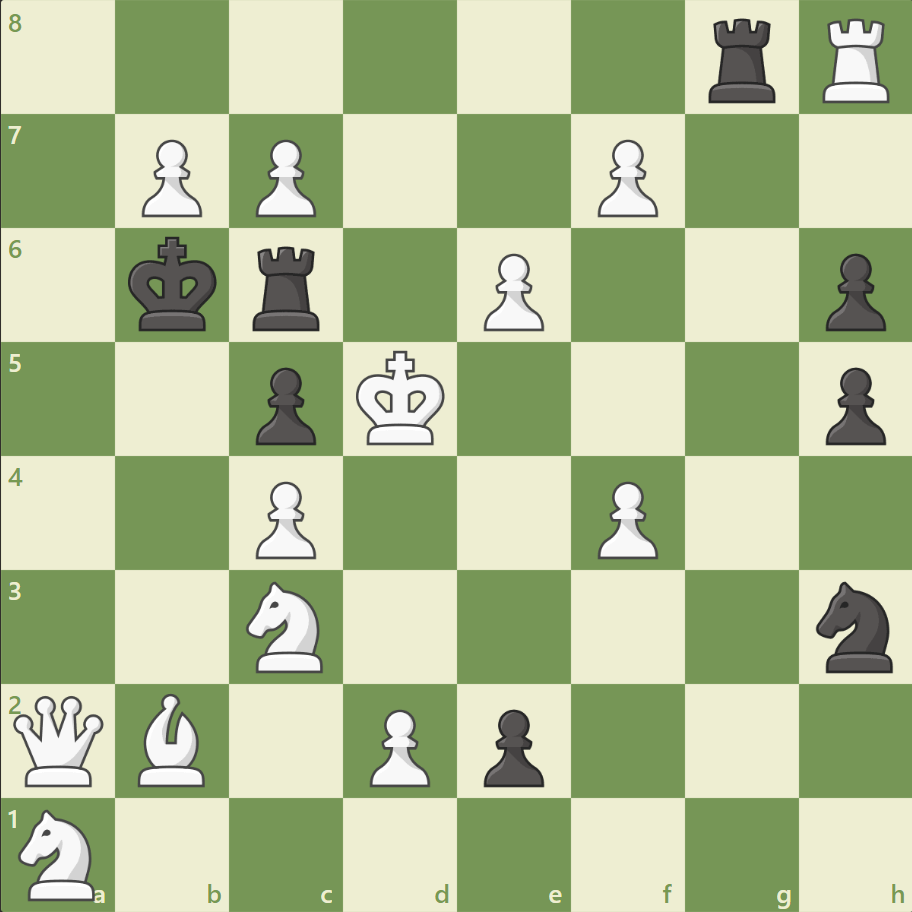B: (131, 687, 215, 790)
K: (351, 344, 451, 452)
N: (238, 575, 335, 677), (11, 802, 108, 904)
P: (133, 132, 208, 223), (247, 132, 322, 223), (474, 246, 549, 337), (247, 473, 322, 564), (588, 132, 662, 223), (588, 473, 662, 564), (361, 700, 435, 791)
Q: (10, 690, 109, 789)
R: (814, 12, 897, 109)
k: (124, 231, 224, 339)
n: (806, 575, 903, 677)
p: (247, 359, 322, 450), (474, 700, 549, 791), (815, 246, 889, 337), (815, 359, 889, 450)
r: (700, 12, 783, 109), (246, 239, 329, 336)
